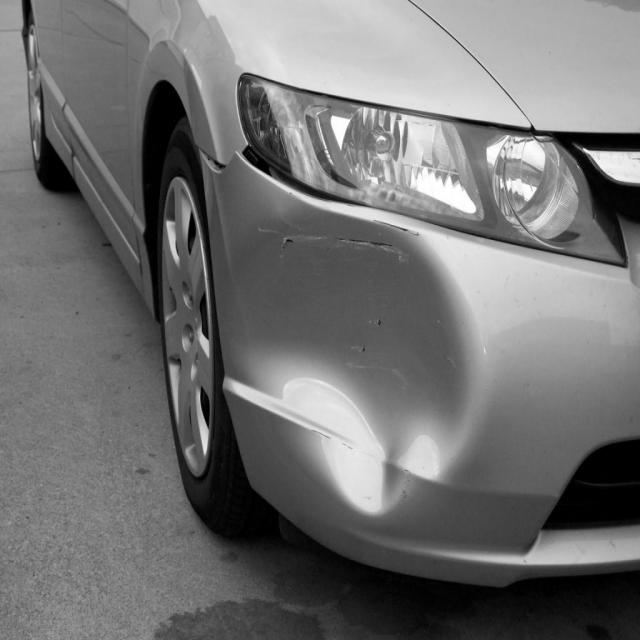dent: (217, 197, 490, 521)
misalignment: (198, 148, 226, 170)
scratch: (257, 224, 416, 263), (345, 313, 410, 391), (308, 425, 358, 451), (371, 214, 423, 238), (401, 466, 413, 500)
